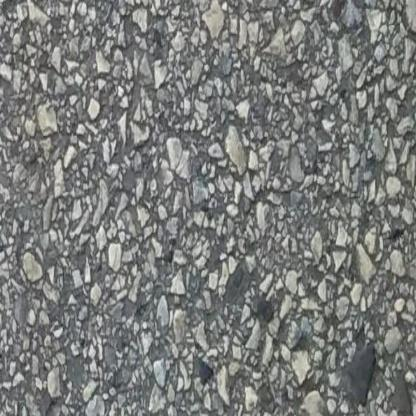Cracks: (0, 0, 65, 8)
